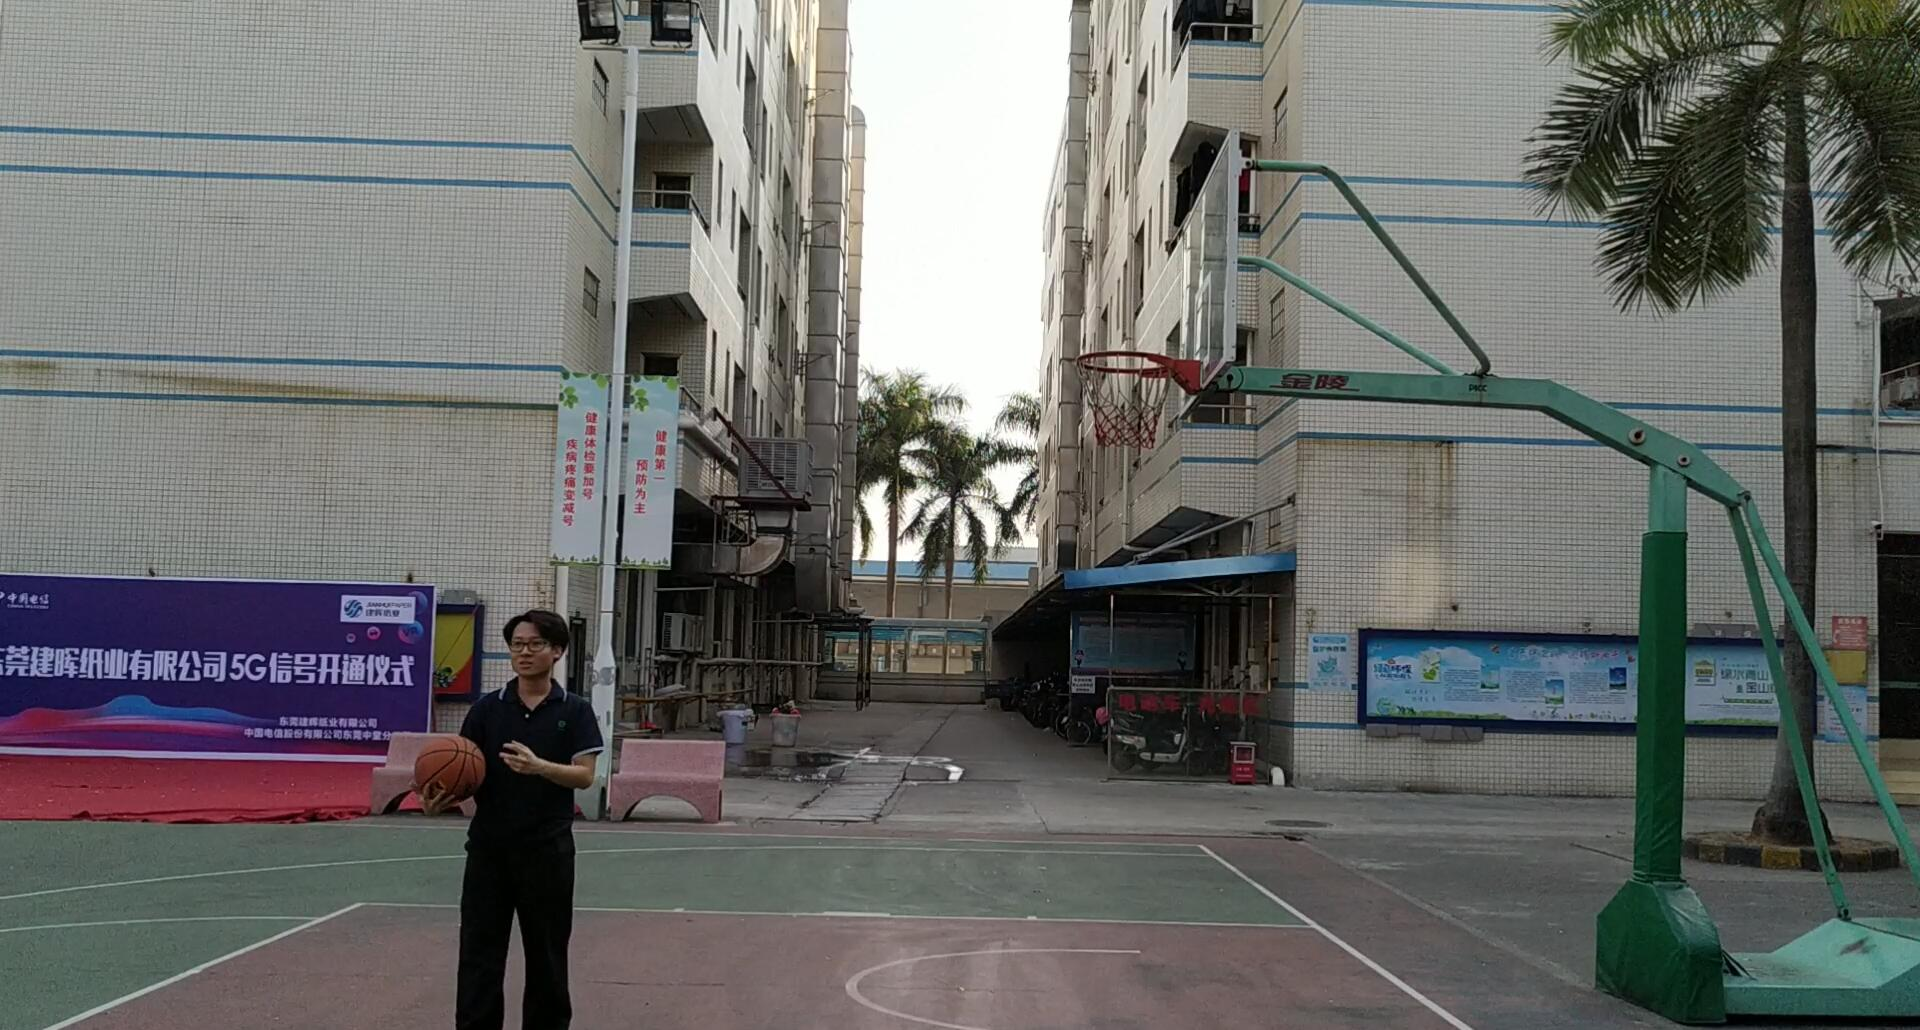basketball: (414, 729, 489, 805)
